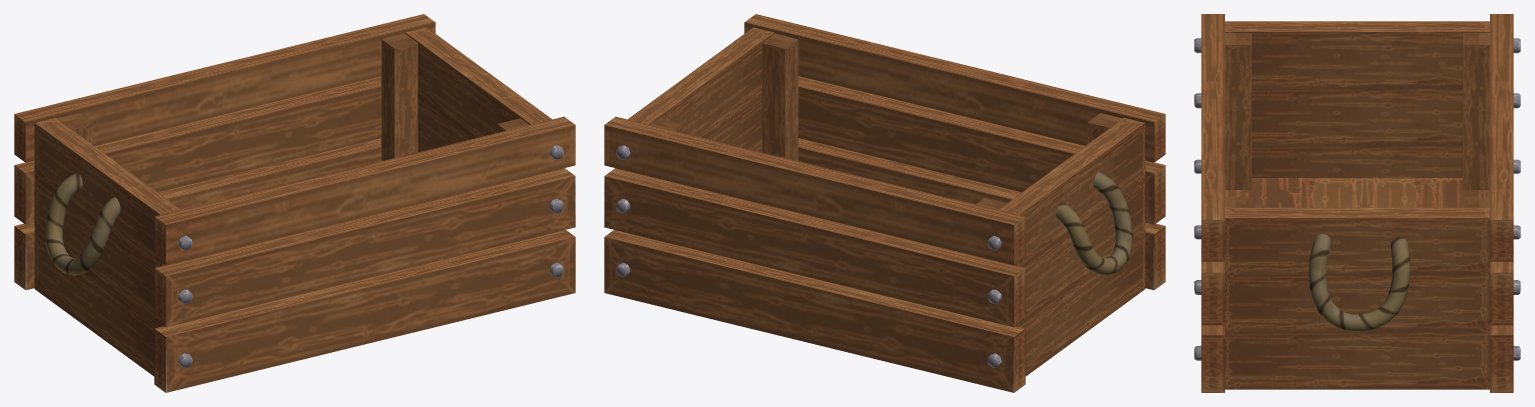
Rendered from FarmCrate_Empty.gltf.
3 views of the same model, side by side, from view 1: azimuth 30°, elevation 25°; view 2: azimuth 150°, elevation 25°; view 3: azimuth 270°, elevation 25° (orthographic). The views are drawn at different scales.
Visible parts, largest first — view 1: FarmCrate_Empty; view 2: FarmCrate_Empty; view 3: FarmCrate_Empty.
Boxes of the visible parts, bbox=[...] form: FarmCrate_Empty: bbox=[14, 14, 575, 392]; FarmCrate_Empty: bbox=[604, 14, 1165, 392]; FarmCrate_Empty: bbox=[1194, 14, 1520, 392].
Size of the model in its own units: 0.7138 by 0.2438 by 0.4142.
Materials: 2 (2 with a texture image).
